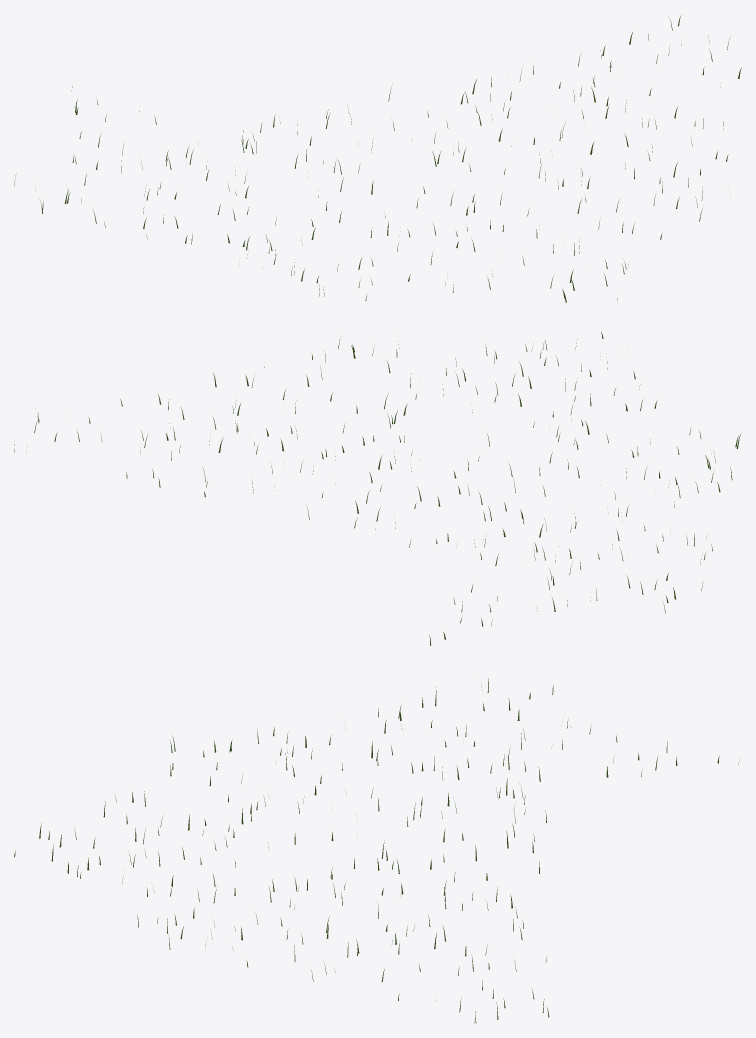
3 views of the same model, one above another, from view 1: azimuth 30°, elevation 25°; view 2: azimuth 150°, elevation 25°; view 3: azimuth 270°, elevation 25° (orthographic).
Visible parts, largest first — view 1: GrassPatch; view 2: GrassPatch; view 3: GrassPatch.
Boxes of the visible parts, x1,y1,x2,y2 form: GrassPatch: [14, 15, 741, 302]; GrassPatch: [14, 332, 740, 645]; GrassPatch: [14, 678, 739, 1023].
Bounding box in the file's own units: 19.43 × 0.4918 × 17.91.
